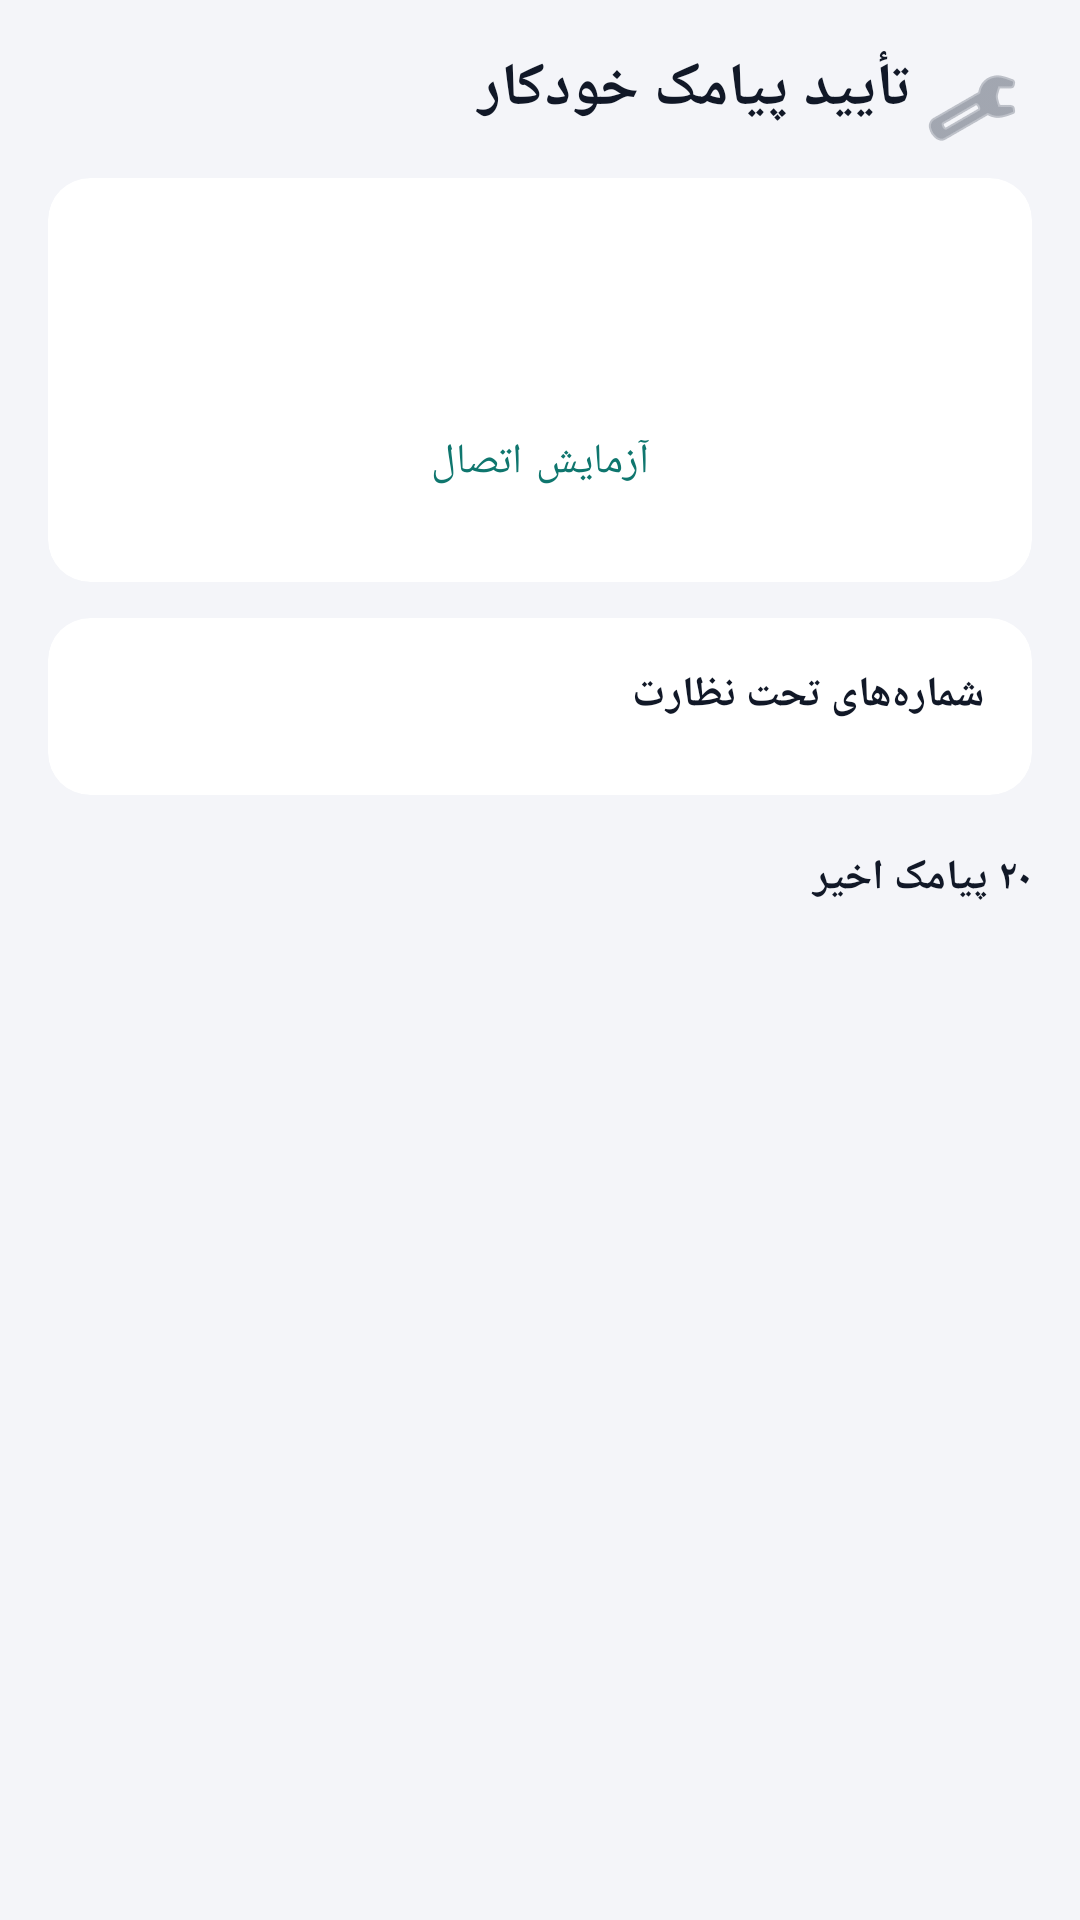

Screen size 1080w x 1920h. Icon name, then its center in pixels as [x,y]:
تنظیمات: [972,108]
